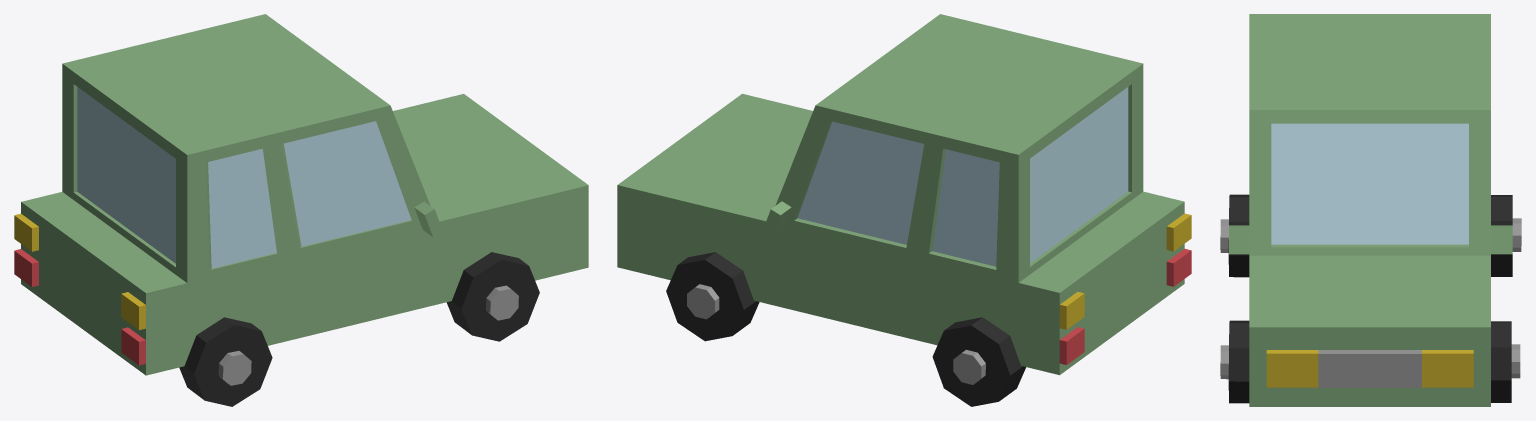
File: Car.fbx
3 views of the same model, side by side, from view 1: azimuth 30°, elevation 25°; view 2: azimuth 150°, elevation 25°; view 3: azimuth 270°, elevation 25° (orthographic). The views are drawn at different scales.
Parts seen in each view (by area): view 1: Body, wheel1, wheel0; view 2: Body, wheel3, wheel2; view 3: Body, wheel0, wheel2, wheel3, wheel1.
Boxes of the visible parts, <box> form: Body: <box>14,14,588,375</box>; wheel1: <box>179,317,272,406</box>; wheel0: <box>446,252,539,341</box>; Body: <box>617,14,1191,375</box>; wheel3: <box>932,317,1026,406</box>; wheel2: <box>666,252,759,341</box>; Body: <box>1229,14,1512,406</box>; wheel0: <box>1220,320,1249,403</box>; wheel2: <box>1491,321,1520,402</box>; wheel3: <box>1491,195,1521,276</box>; wheel1: <box>1220,194,1249,277</box>.
Size of what is drawn, in the model's own units: 423 by 223 by 249.
